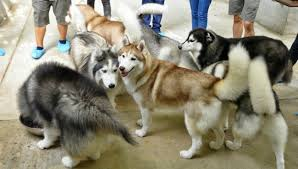Bulldog: (119, 45, 235, 150), (180, 23, 298, 67), (52, 28, 119, 94)
